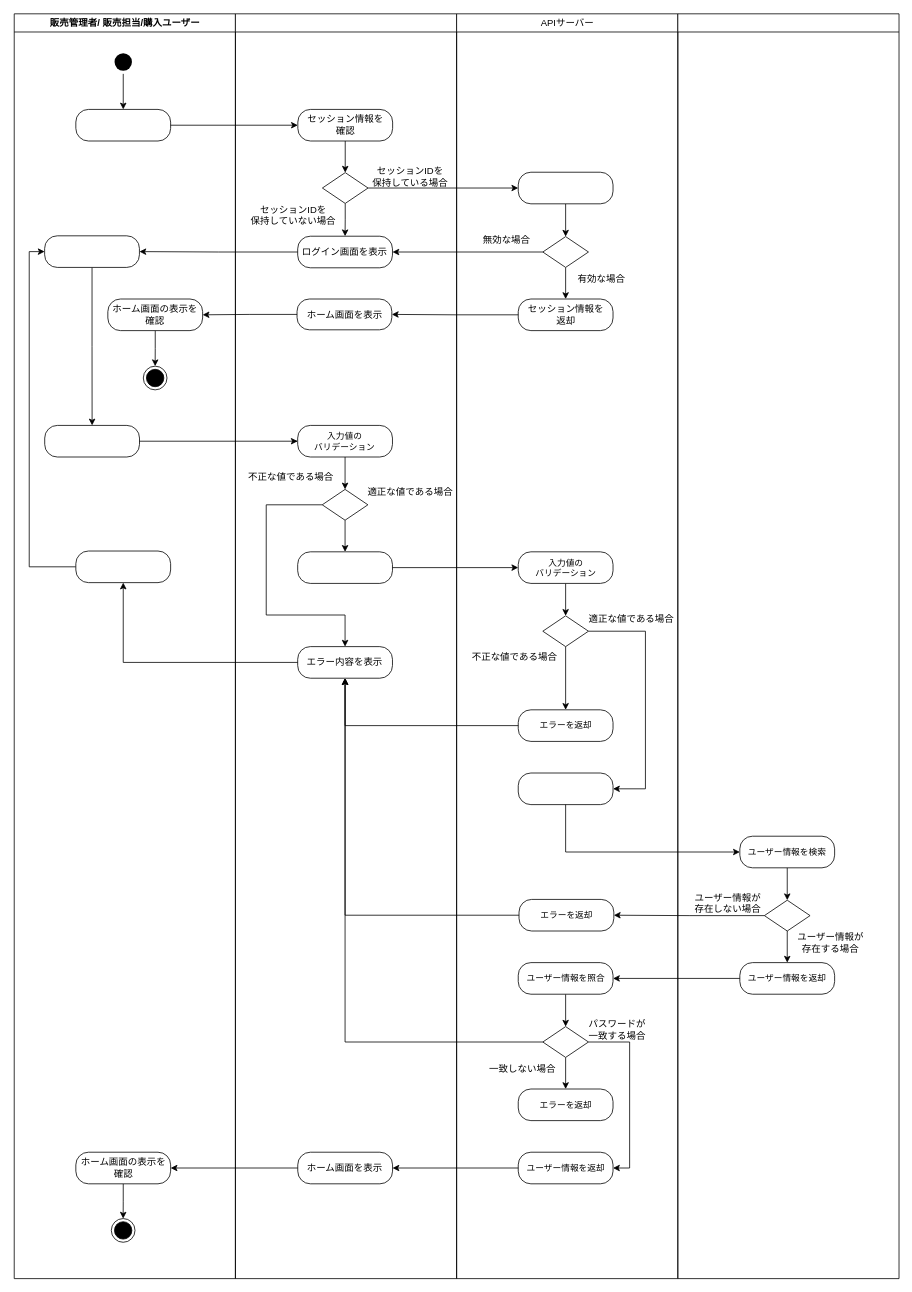
This 912x1292 diagram has some shape labels left out. Here are the shapes that lost their labels. From the top down, the box of each, then its label:
(75, 109, 171, 141): ECサイトのURLに アクセス
(517, 171, 613, 204): セッションIDを元に有効期限を確認
(44, 235, 139, 267): ユーザー情報を 入力する
(44, 425, 140, 457): ログインボタンを 押下
(75, 550, 171, 583): エラー内容を 確認
(297, 551, 392, 583): ログイン APIリクエストを送信
(235, 13, 457, 1279): ECサイト画面
(677, 13, 899, 1279): データベース
(517, 772, 613, 805): ユーザー情報を取得
